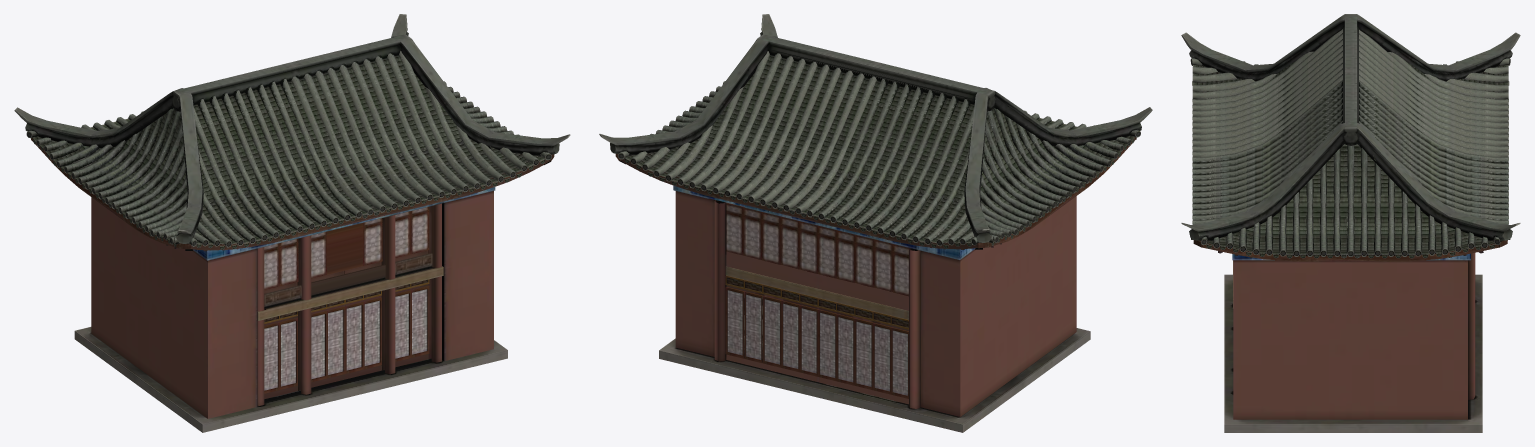
File: house.glb
The picture shows the model from 3 angles, left to right: view 1: azimuth 30°, elevation 25°; view 2: azimuth 150°, elevation 25°; view 3: azimuth 270°, elevation 25°; orthographic projection.
Visible parts, largest first — view 1: Object_2; view 2: Object_2; view 3: Object_2.
Boxes of the visible parts, x1,y1,x2,y2 form: Object_2: [14, 14, 570, 432]; Object_2: [599, 14, 1152, 432]; Object_2: [1181, 14, 1520, 432].
Bounding box in the file's own units: 72.46 × 50.31 × 53.91.
Materials: 1 (1 with a texture image).
